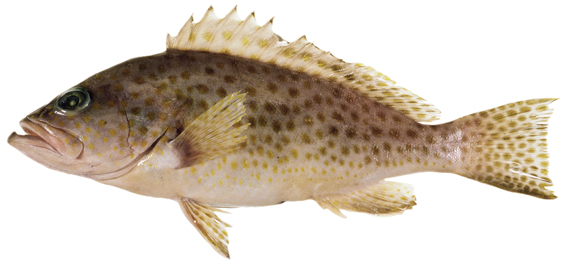fish: (7, 4, 560, 260)
